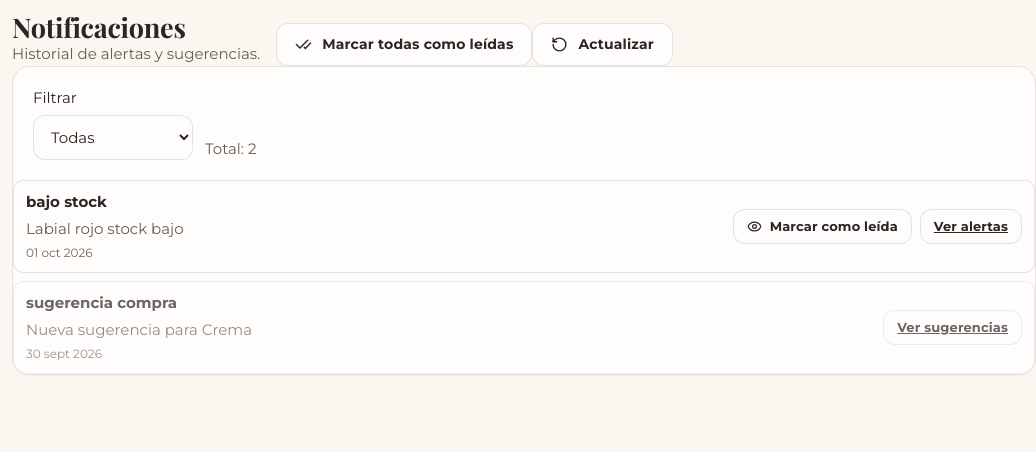
Notificaciones › permite marcar como leída una notificación
This screenshot has width=1036, height=452.
Step 1. Click the button "Marcar como leída" → (822, 227), box [733,209,912,244]
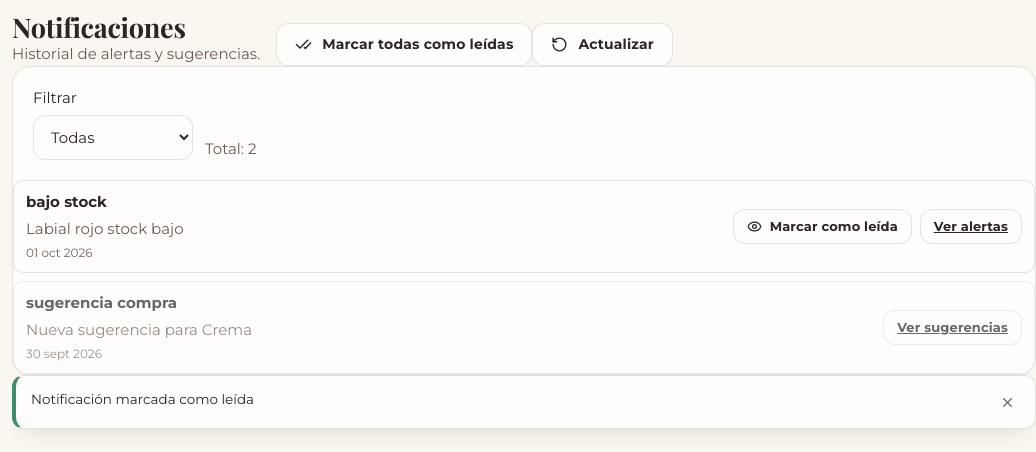
Expected: the text "Notificación marcada como leída" is shown, [31,389,254,409]
